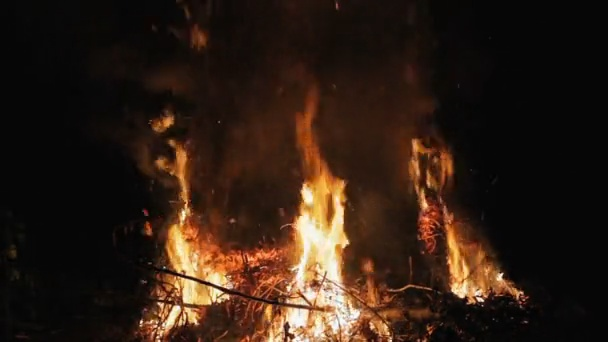fire: (269, 175, 358, 342), (152, 209, 231, 325), (445, 223, 504, 301)
